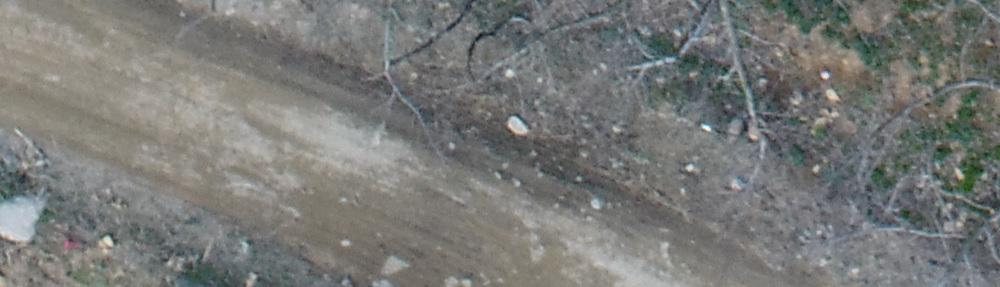apple: (477, 10, 990, 170)
